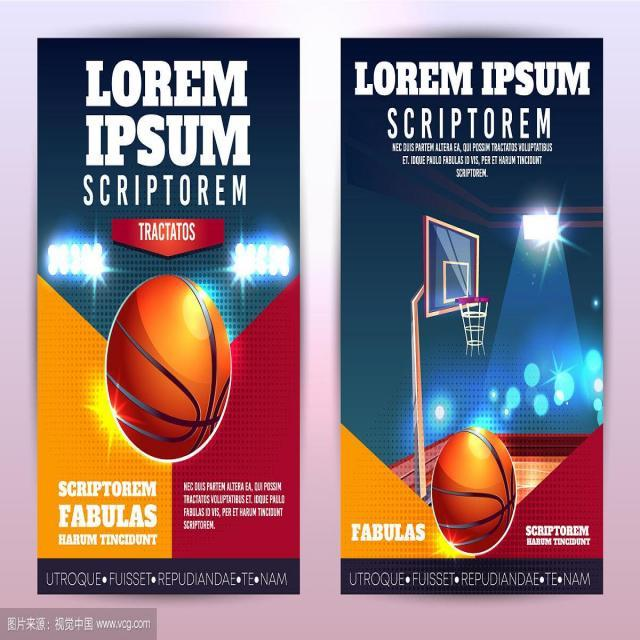rim: (105, 275, 232, 458), (432, 425, 516, 556)
